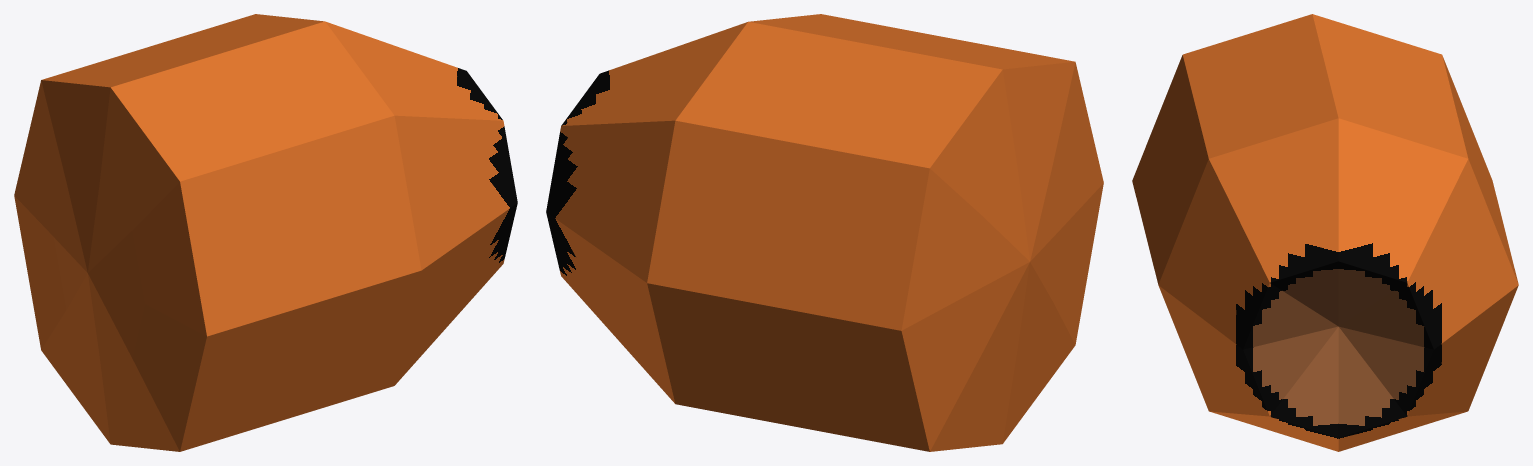
The model's file is Fired357Bullet.glb.
3 renders of one model, left to right at view 1: azimuth 30°, elevation 25°; view 2: azimuth 150°, elevation 25°; view 3: azimuth 270°, elevation 25°, orthographic. The views are drawn at different scales.
Parts seen in each view (by area): view 1: Bullet.001; view 2: Bullet.001; view 3: Bullet.001.
Part boxes in pixels (x1,y1,x2,y2): Bullet.001: [14, 14, 517, 451]; Bullet.001: [546, 14, 1103, 451]; Bullet.001: [1132, 14, 1518, 451].
Size of the model in its own units: 0.2888 by 0.2498 by 0.2623.
1 material, 1 textured.
